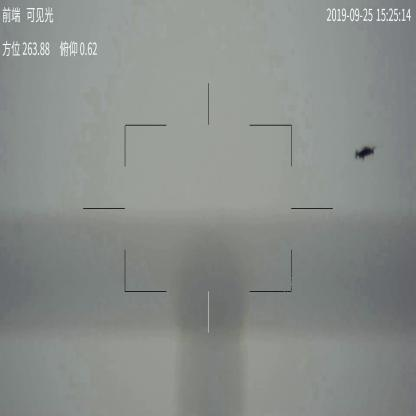uav: (356, 144, 378, 161)
